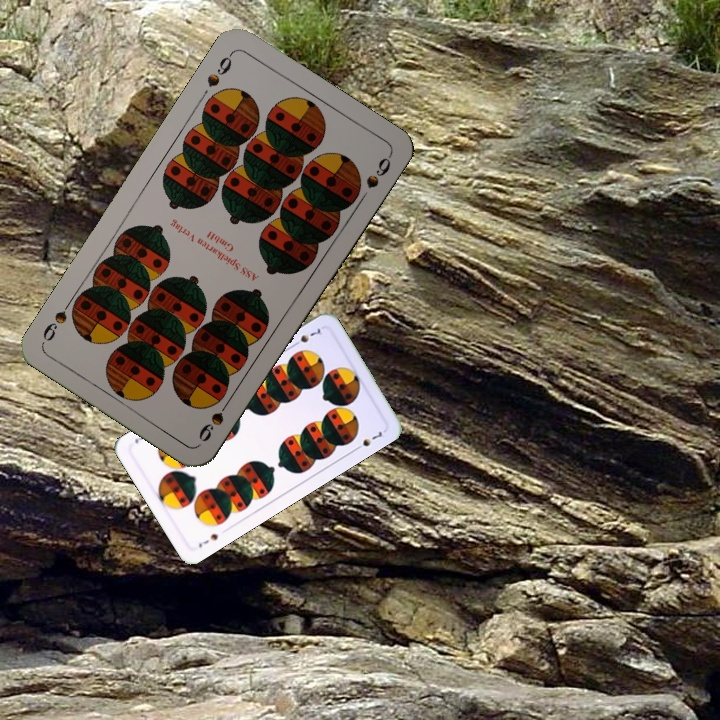S7: (288, 323, 326, 349), (194, 529, 221, 550)
S9: (194, 393, 234, 445), (202, 48, 236, 90)
